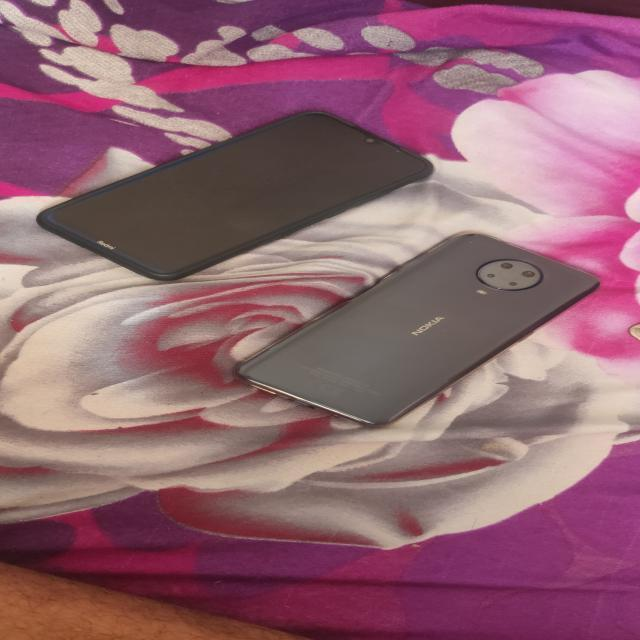Phone: (228, 227, 602, 433), (37, 106, 438, 287)
